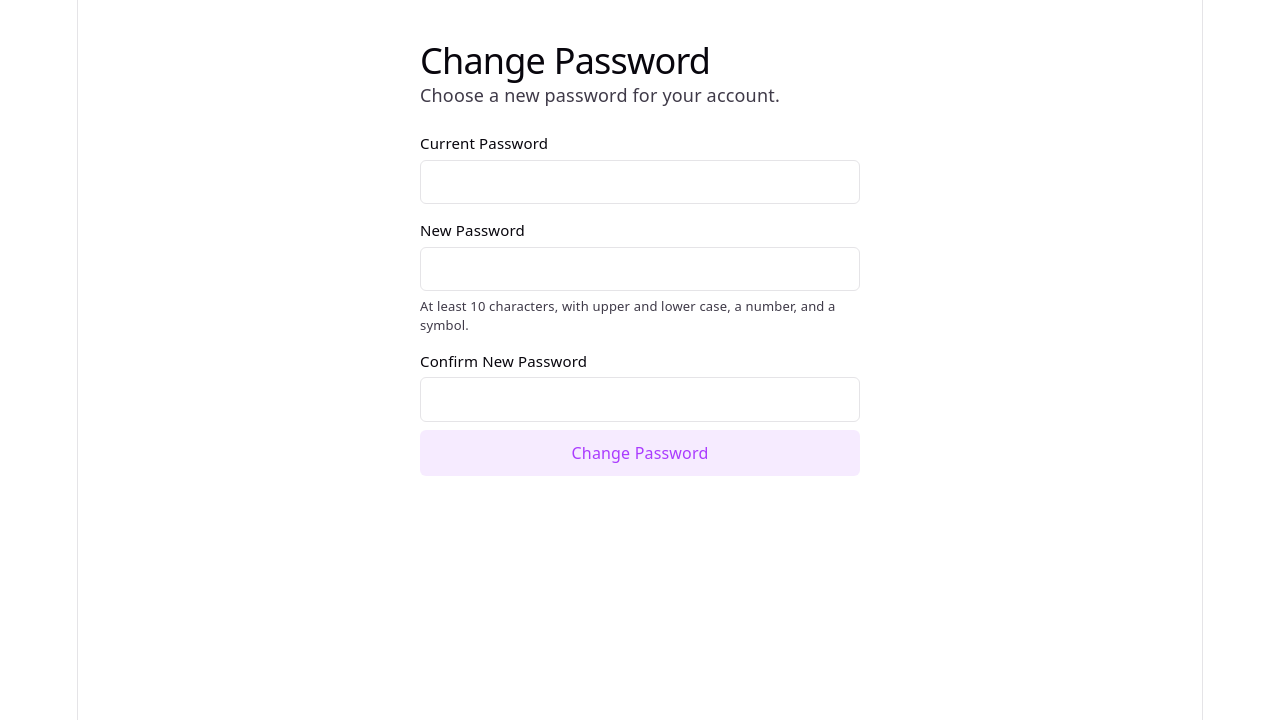
ChangePasswordPage › maps server field and form errors
This screenshot has width=1280, height=720.
Type "OldPassword1!" into the password field labelled "Current Password" at (640, 182), box 420,160 -> 860,204
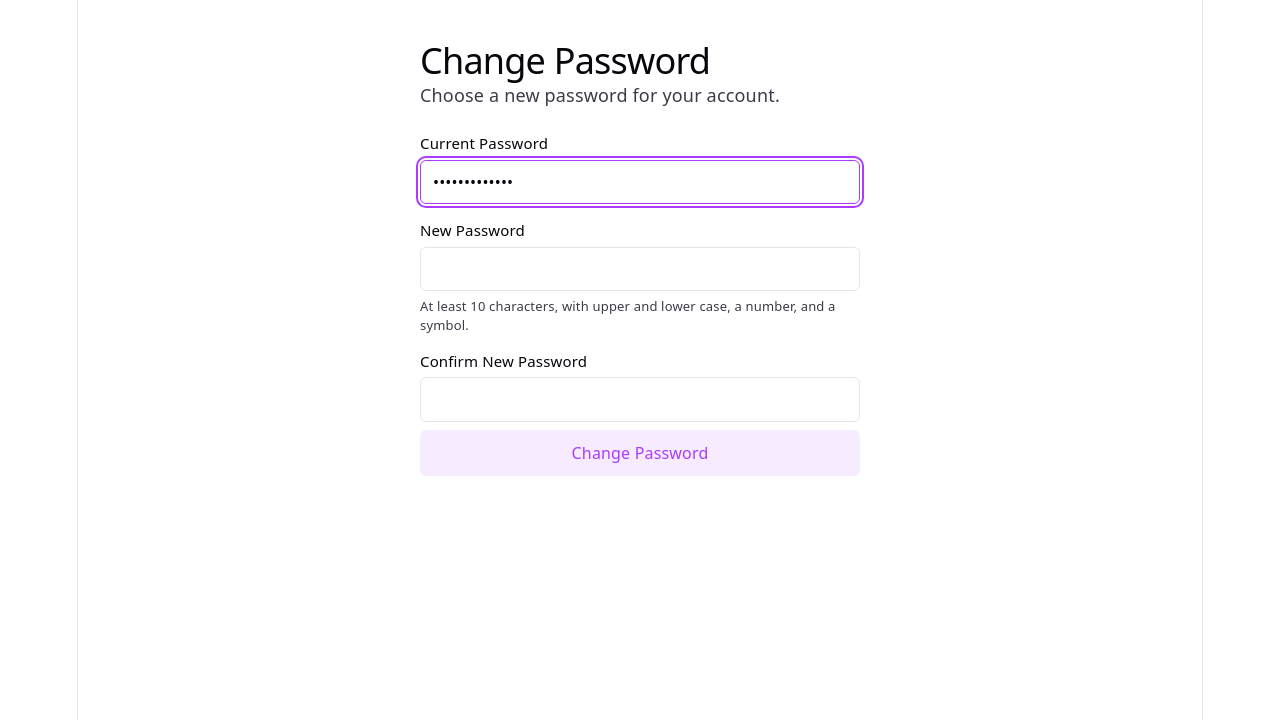
Type "Password1!" into the password field labelled "New Password" at (640, 269), box 420,247 -> 860,291
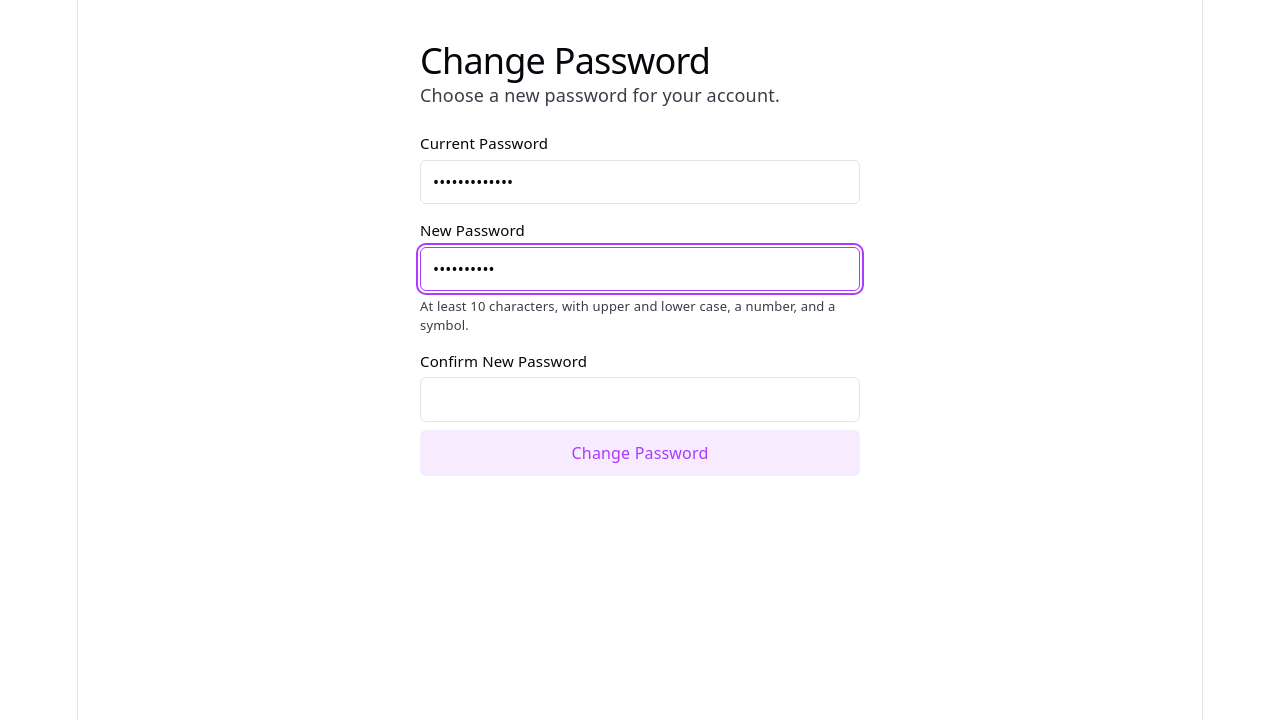
Type "Password1!" into the password field labelled "Confirm New Password" at (640, 400), box 420,377 -> 860,422
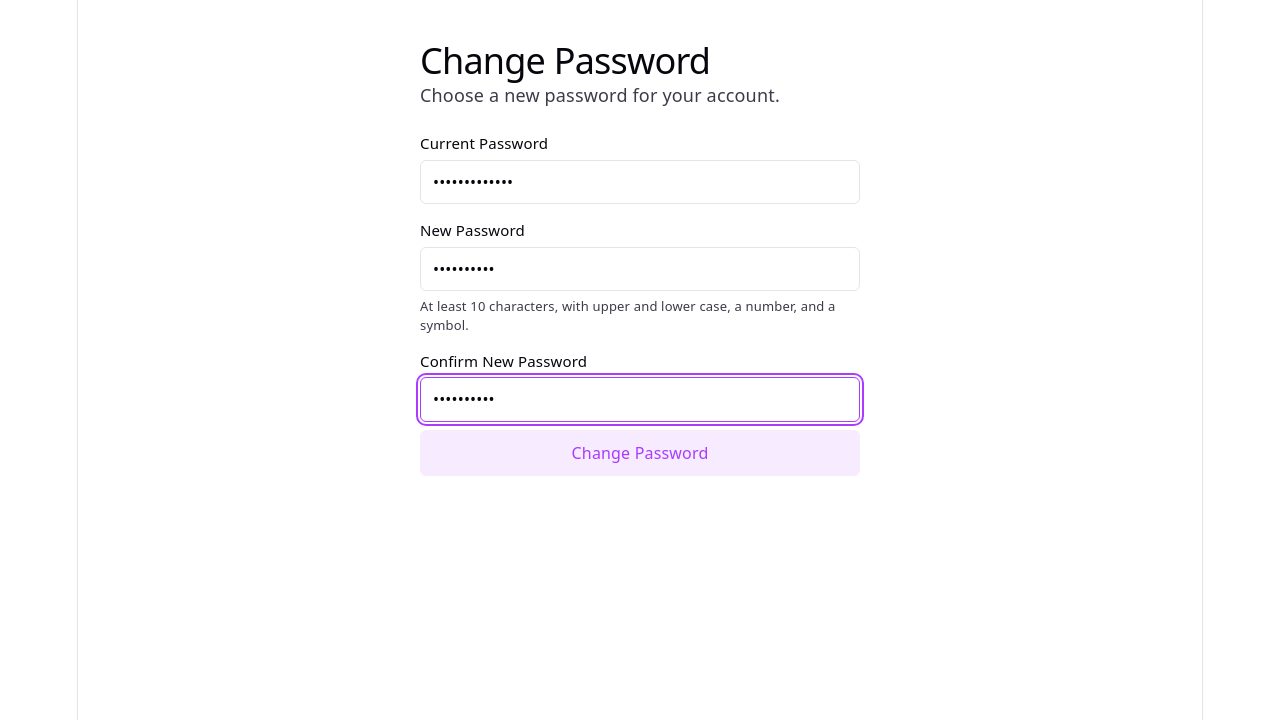
Click the button "Change Password" at (640, 453), box 420,430 -> 860,476
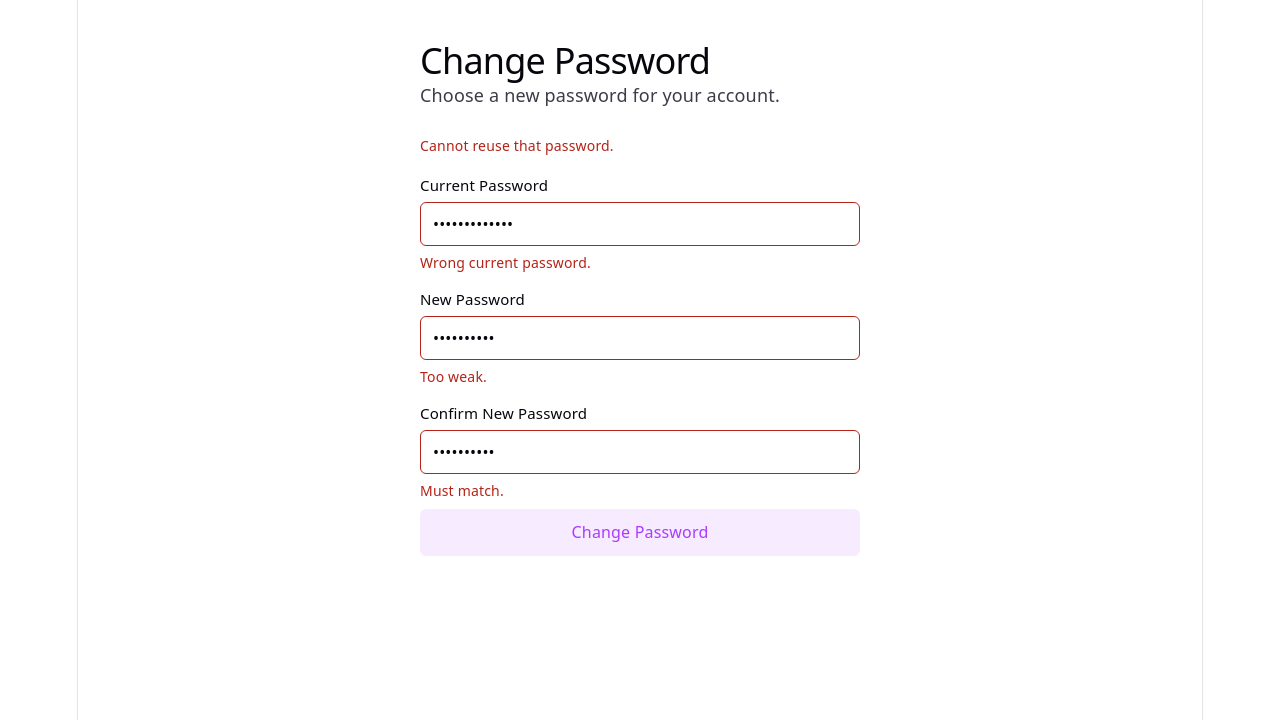
expect the text "Wrong current password." is shown: met, box 420,253 -> 591,272
expect the text "Too weak." is shown: met, box 420,367 -> 487,386
expect the text "Must match." is shown: met, box 420,481 -> 504,500
